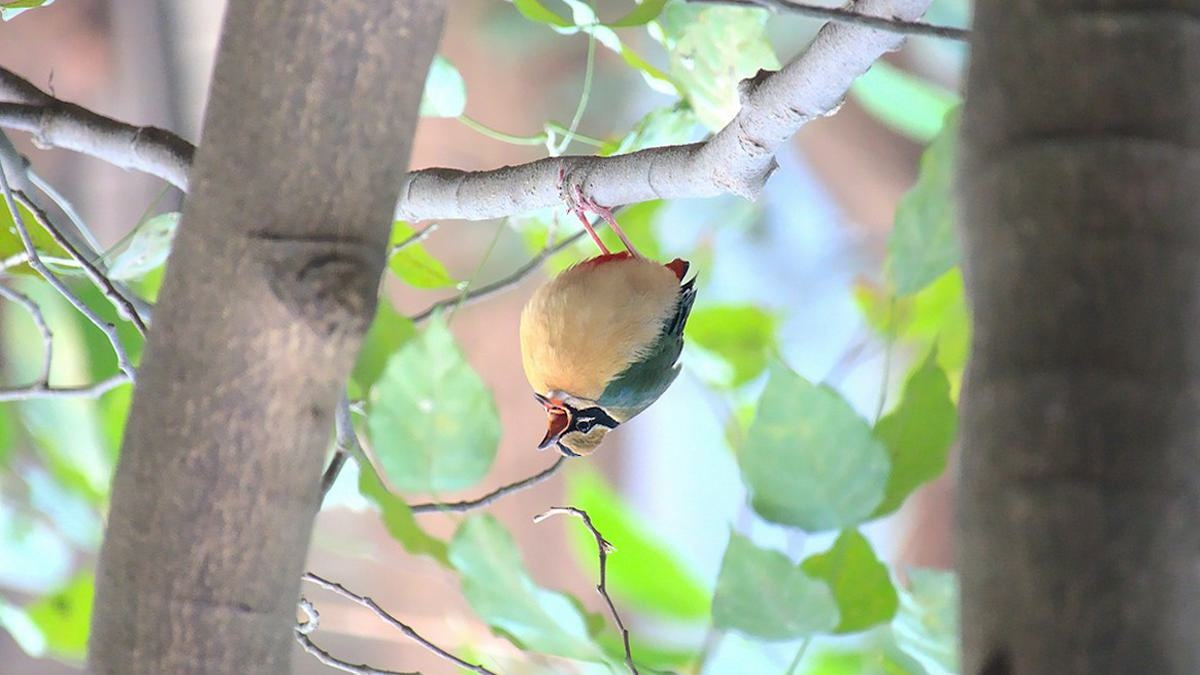pitta: (505, 178, 716, 487)
